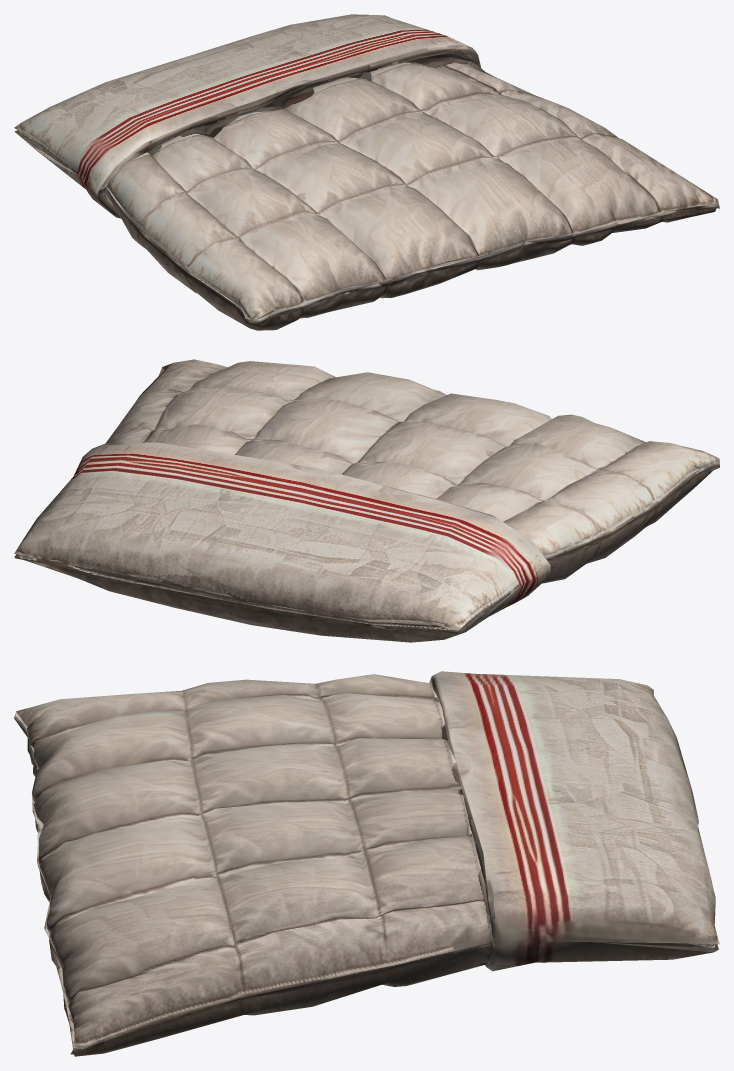
File: act1_kit_v1_turned_down_quilt.glb
The picture shows the model from 3 angles, top to bottom: view 1: azimuth 30°, elevation 25°; view 2: azimuth 150°, elevation 25°; view 3: azimuth 270°, elevation 25°; orthographic projection. The views are drawn at different scales.
Visible parts, largest first — view 1: A24_5_turned_down_quilt; view 2: A24_5_turned_down_quilt; view 3: A24_5_turned_down_quilt.
Part boxes in pixels (x1=…): A24_5_turned_down_quilt: x1=14, y1=14, x2=719, y2=330; A24_5_turned_down_quilt: x1=14, y1=359, x2=719, y2=642; A24_5_turned_down_quilt: x1=14, y1=671, x2=719, y2=1056.
Size of the model in its own units: 0.9986 by 0.1975 by 0.9309.
Materials: 1 (1 with a texture image).
